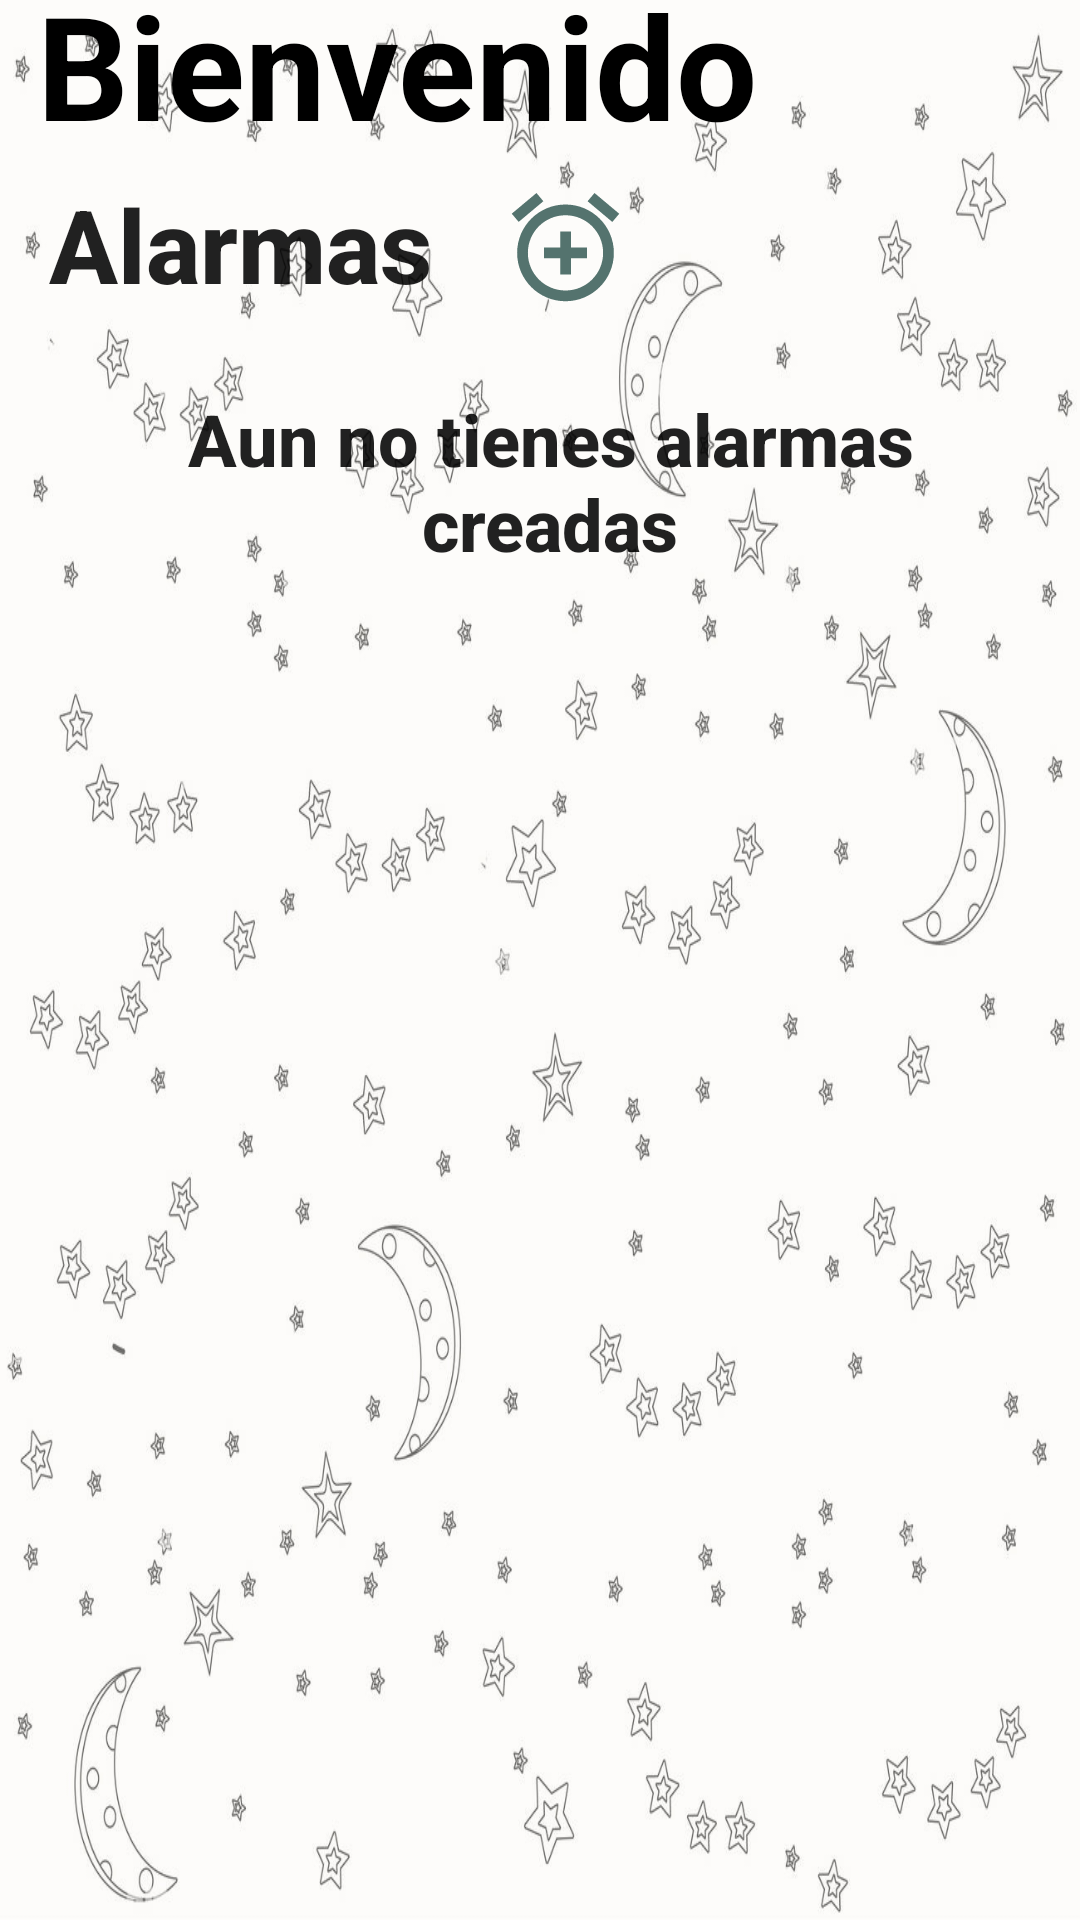

Named icons in this screenshot (1080*1920) and their centers, point (x, y):
add alarm: point (578, 249)
